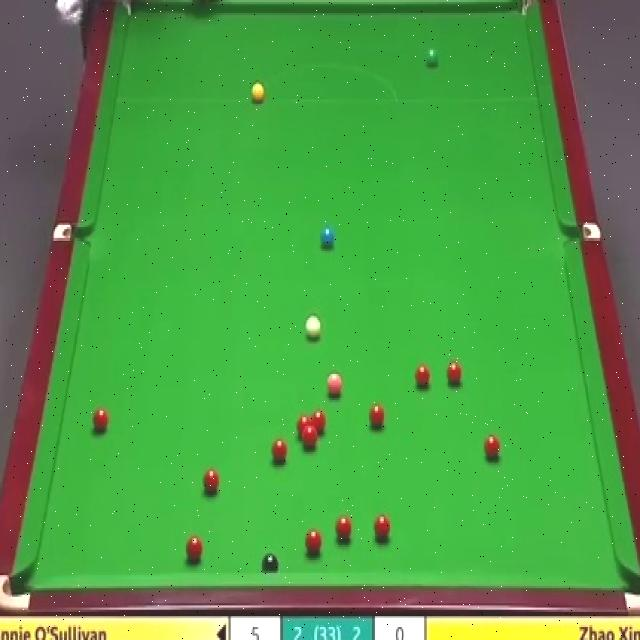black-ball: (261, 554, 279, 572)
blue-ball: (319, 226, 334, 249)
green-ball: (426, 45, 438, 66)
pink-ball: (324, 372, 344, 396)
red-ball: (482, 434, 502, 463), (270, 436, 289, 466), (201, 468, 221, 494), (185, 534, 204, 561), (334, 516, 352, 544), (304, 528, 322, 555), (302, 424, 318, 454), (445, 360, 462, 388), (309, 409, 327, 434), (91, 409, 109, 433), (374, 515, 391, 539), (370, 403, 385, 428), (415, 365, 431, 388), (298, 415, 312, 440)
white-ball: (304, 314, 321, 340)
yellow-ball: (248, 82, 266, 104)
